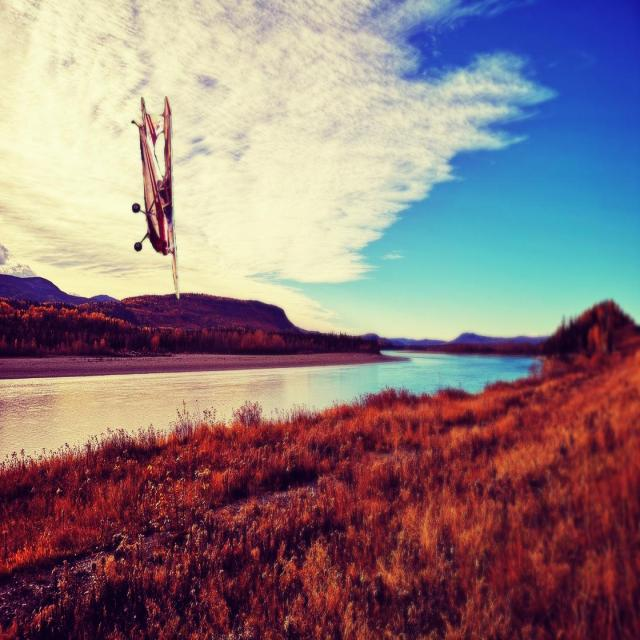airplane: (130, 95, 180, 299)
